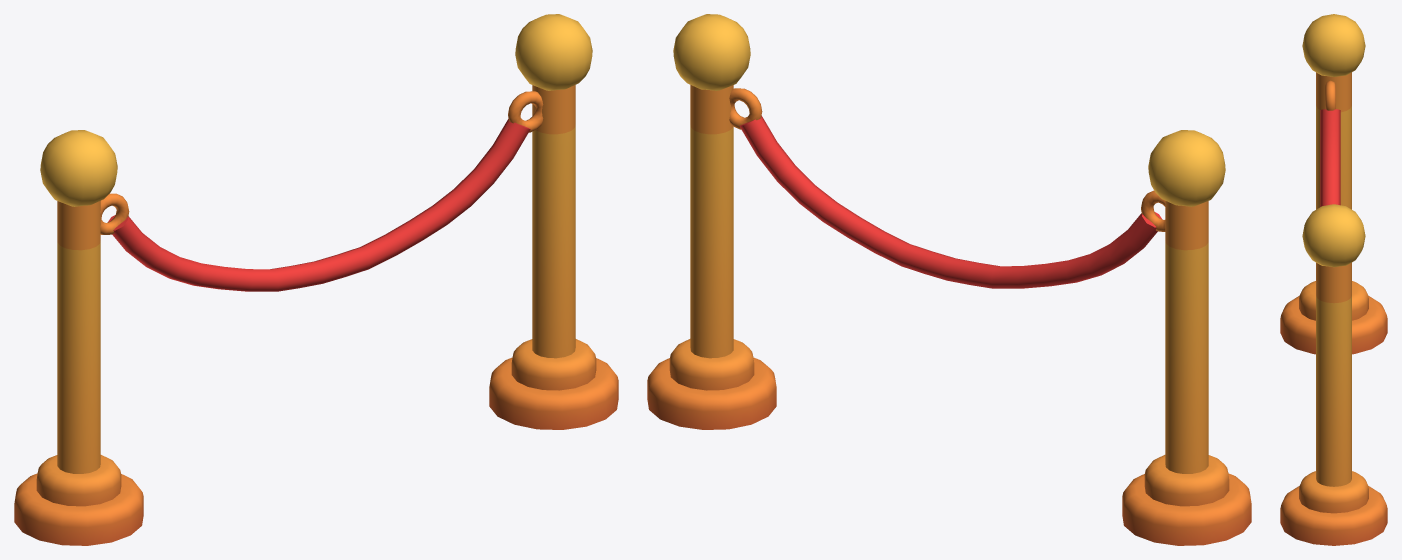
The model's file is Barrier.fbx.
3 renders of one model, left to right at view 1: azimuth 30°, elevation 25°; view 2: azimuth 150°, elevation 25°; view 3: azimuth 270°, elevation 25°, orthographic. The views are drawn at different scales.
Parts seen in each view (by area): view 1: Barrier; view 2: Barrier; view 3: Barrier.
Part boxes in pixels (bbox=[...]): Barrier: bbox=[14, 14, 618, 545]; Barrier: bbox=[647, 14, 1251, 545]; Barrier: bbox=[1280, 14, 1387, 545].
Size of the model in its own units: 166 by 104 by 31.86.
